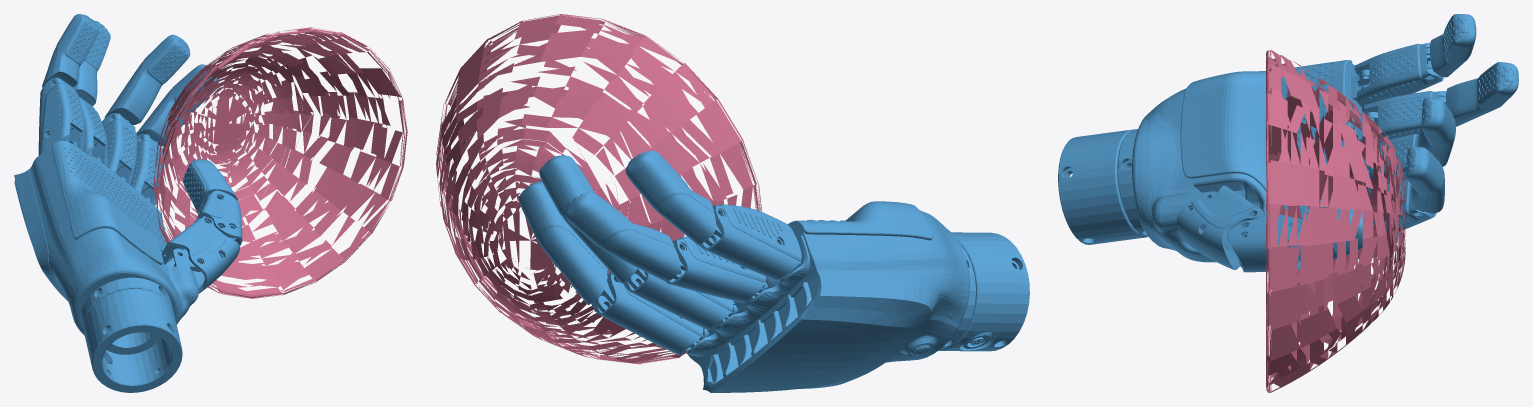
3 views of the same model, side by side, from view 1: azimuth 30°, elevation 25°; view 2: azimuth 150°, elevation 25°; view 3: azimuth 270°, elevation 25° (orthographic). The views are drawn at different scales.
Visible parts, largest first — view 1: 8; view 2: 8; view 3: 8.
Part boxes in pixels (x1,y1,x2,y2): 8: [14, 14, 407, 392]; 8: [436, 14, 1029, 392]; 8: [1058, 14, 1518, 392].
Size of the model in its own units: 0.2425 by 0.1584 by 0.2115.
